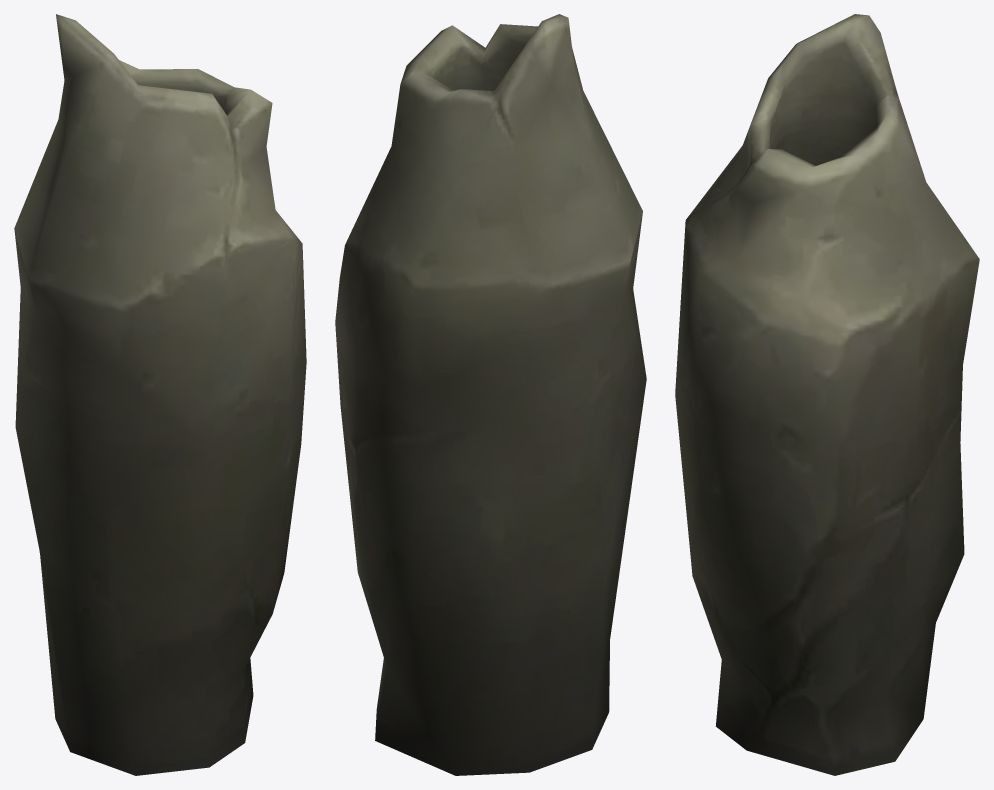
3 views of the same model, side by side, from view 1: azimuth 30°, elevation 25°; view 2: azimuth 150°, elevation 25°; view 3: azimuth 270°, elevation 25° (orthographic). The views are drawn at different scales.
Bounding box in the file's own units: 0.7248 × 1.84 × 0.7496.
1 material, 1 textured.
